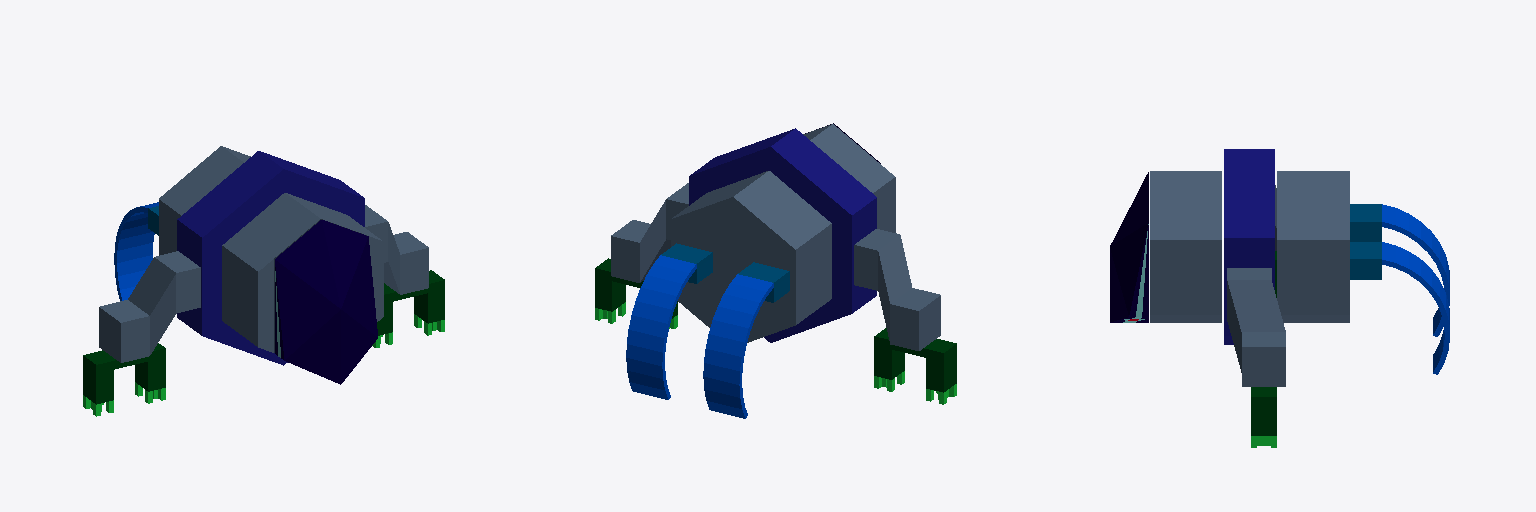
The model's file is perso.obj.
3 renders of one model, left to right at view 1: azimuth 30°, elevation 25°; view 2: azimuth 150°, elevation 25°; view 3: azimuth 270°, elevation 25°, orthographic.
Visible parts, largest first — view 1: Tete, Corps, Torse, BrasDroit, MainDroite, BrasGauche, JambeDroite, MainGauche; view 2: Corps, Torse, JambeGauche, JambeDroite, BrasDroit, BrasGauche, MainDroite, MainGauche; view 3: Corps, Torse, BrasGauche, Tete, JambeGauche, JambeDroite, MainGauche.
Boxes of the visible parts, <box> form: Tete: <box>275,220,377,384</box>; Corps: <box>159,146,383,352</box>; Torse: <box>177,151,364,365</box>; BrasDroit: <box>99,251,200,362</box>; MainDroite: <box>83,343,165,416</box>; BrasGauche: <box>365,205,428,294</box>; JambeDroite: <box>114,202,158,300</box>; MainGauche: <box>372,270,444,347</box>; Corps: <box>671,124,895,342</box>; Torse: <box>689,128,876,342</box>; JambeGauche: <box>626,243,712,399</box>; JambeDroite: <box>703,262,789,418</box>; BrasDroit: <box>854,229,940,350</box>; BrasGauche: <box>611,183,688,282</box>; MainDroite: <box>874,328,956,404</box>; MainGauche: <box>595,258,677,328</box>; Corps: <box>1150,171,1349,322</box>; Torse: <box>1224,149,1274,344</box>; BrasGauche: <box>1227,268,1285,386</box>; Tete: <box>1110,172,1148,322</box>; JambeGauche: <box>1350,242,1449,374</box>; JambeDroite: <box>1350,204,1449,336</box>; MainGauche: <box>1251,387,1276,447</box>.
Bounding box in the file's own units: 7.24 × 4.26 × 6.12.